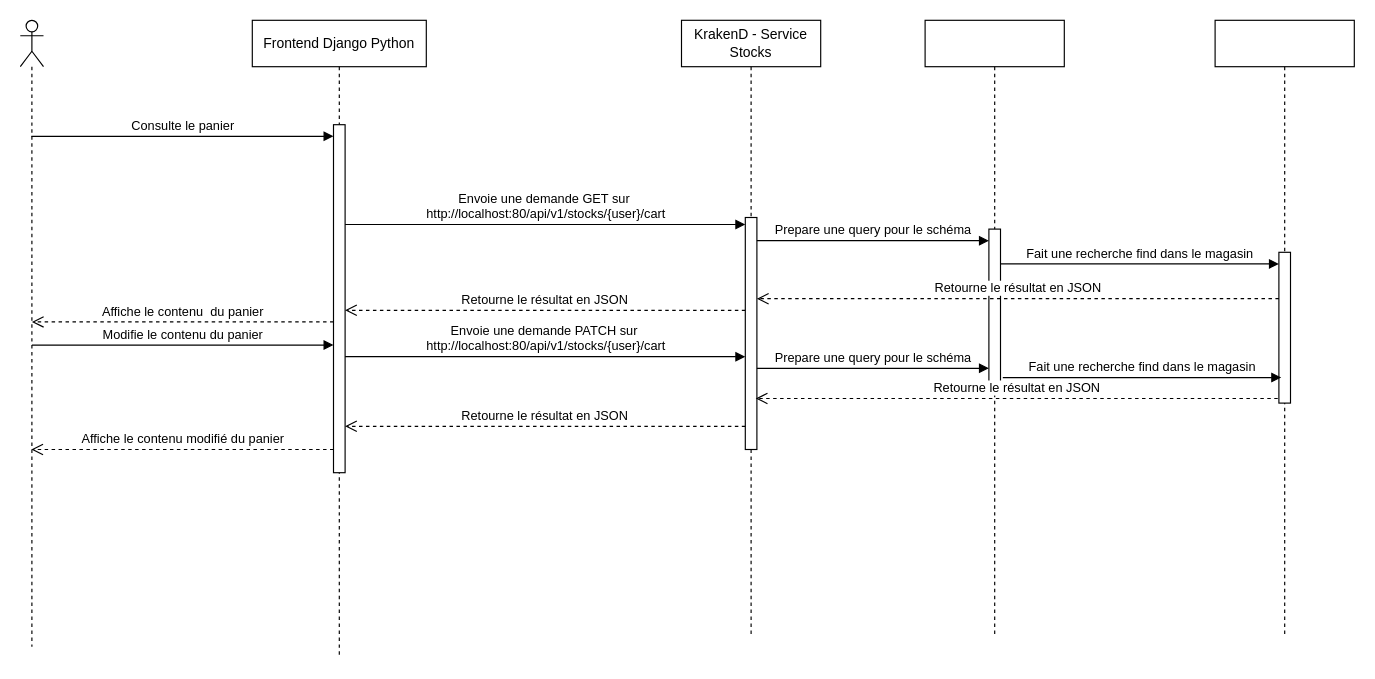
This 1375x679 diagram has some shape labels left out. Here are the shapes that lost their labels. From the top down, the box of each, then its label:
(924, 19, 1064, 635): Cart
(1214, 19, 1354, 635): Base de données MongoDB
